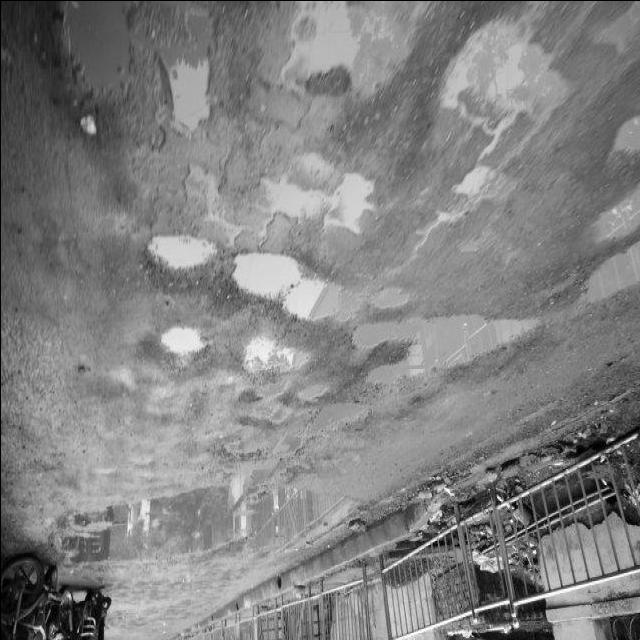lubang: (271, 2, 429, 114), (352, 310, 544, 386), (60, 1, 145, 127), (243, 239, 350, 329), (262, 166, 374, 232), (139, 222, 218, 290), (580, 242, 640, 306), (230, 377, 297, 431), (232, 326, 311, 371), (152, 324, 214, 364), (214, 438, 305, 462), (307, 405, 362, 443), (279, 380, 331, 406), (369, 283, 414, 313)
